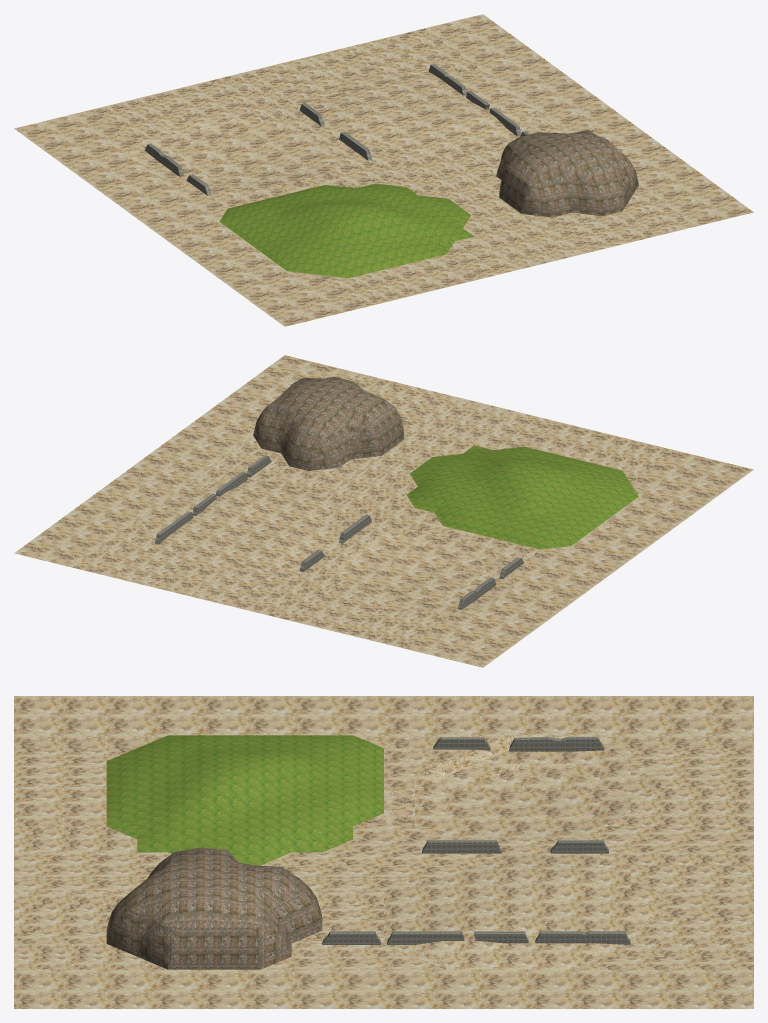
The model's file is map20.fbx.
The picture shows the model from 3 angles, top to bottom: view 1: azimuth 30°, elevation 25°; view 2: azimuth 150°, elevation 25°; view 3: azimuth 270°, elevation 25°; orthographic projection. The views are drawn at different scales.
Visible parts, largest first — view 1: Rand, Hill, Teichi, Shittchi, Mount, Wall; view 2: Rand, Hill, Teichi, Shittchi, Mount, Wall; view 3: Rand, Hill, Teichi, Mount, Shittchi, Wall.
Part boxes in pixels (x1,y1,x2,y2): Rand: [14, 14, 753, 326]; Hill: [219, 183, 473, 278]; Teichi: [309, 71, 536, 155]; Shittchi: [129, 118, 341, 190]; Mount: [496, 130, 638, 217]; Wall: [145, 63, 530, 195]; Rand: [14, 355, 753, 667]; Hill: [407, 445, 638, 549]; Teichi: [140, 478, 338, 572]; Shittchi: [336, 529, 514, 615]; Mount: [253, 376, 404, 470]; Wall: [155, 455, 523, 609]; Rand: [14, 696, 753, 1008]; Hill: [106, 735, 383, 865]; Teichi: [384, 852, 661, 969]; Mount: [106, 847, 322, 969]; Shittchi: [415, 735, 661, 839]; Wall: [322, 736, 630, 944].
Size of the model in its own units: 7.2 by 0.7298 by 7.2.
5 materials, 5 textured.
